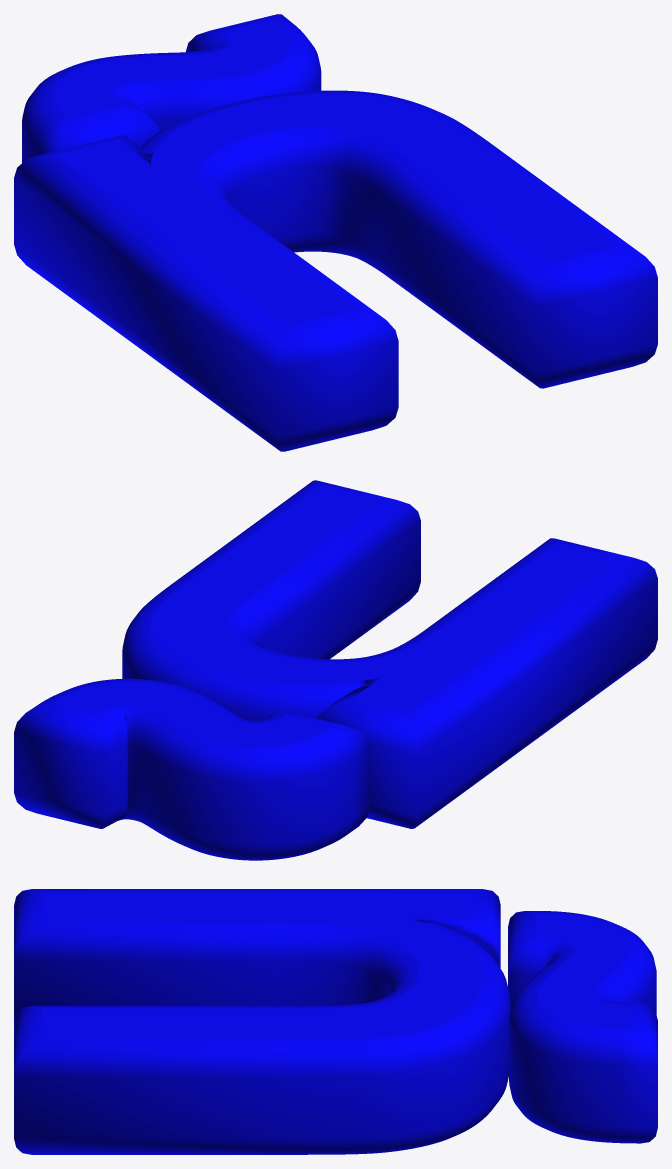
3 views of the same model, one above another, from view 1: azimuth 30°, elevation 25°; view 2: azimuth 150°, elevation 25°; view 3: azimuth 270°, elevation 25° (orthographic). The views are drawn at different scales.
Parts seen in each view (by area): view 1: texto; view 2: texto; view 3: texto.
Boxes of the visible parts, <box> form: texto: <box>14,14,657,451</box>; texto: <box>14,480,657,860</box>; texto: <box>14,889,657,1154</box>.
Bounding box in the file's own units: 0.7189 × 0.22 × 1.14.
